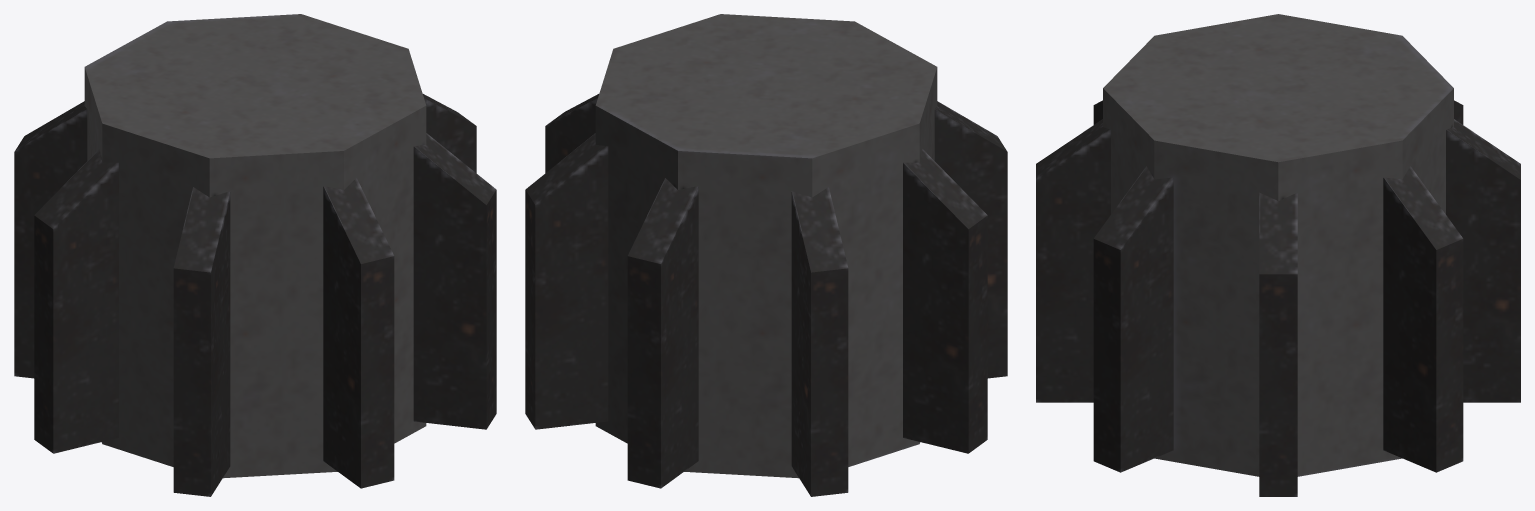
File: barbette_s_1.fbx
3 views of the same model, side by side, from view 1: azimuth 30°, elevation 25°; view 2: azimuth 150°, elevation 25°; view 3: azimuth 270°, elevation 25° (orthographic).
Parts seen in each view (by area): view 1: barbette_s_1; view 2: barbette_s_1; view 3: barbette_s_1.
Part boxes in pixels (x1,y1,x2,y2): barbette_s_1: (14, 14, 496, 496); barbette_s_1: (525, 14, 1007, 496); barbette_s_1: (1036, 14, 1520, 496).
Bounding box in the file's own units: 3.04 × 2.2 × 3.04.
